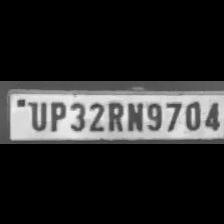0: (180, 98, 202, 130)
2: (85, 98, 105, 132)
3: (66, 98, 86, 130)
4: (200, 98, 222, 130)
7: (162, 98, 182, 130)
9: (143, 98, 163, 130)
N: (124, 98, 144, 132)
P: (46, 97, 66, 130)
R: (104, 98, 124, 132)
U: (26, 98, 48, 130)
